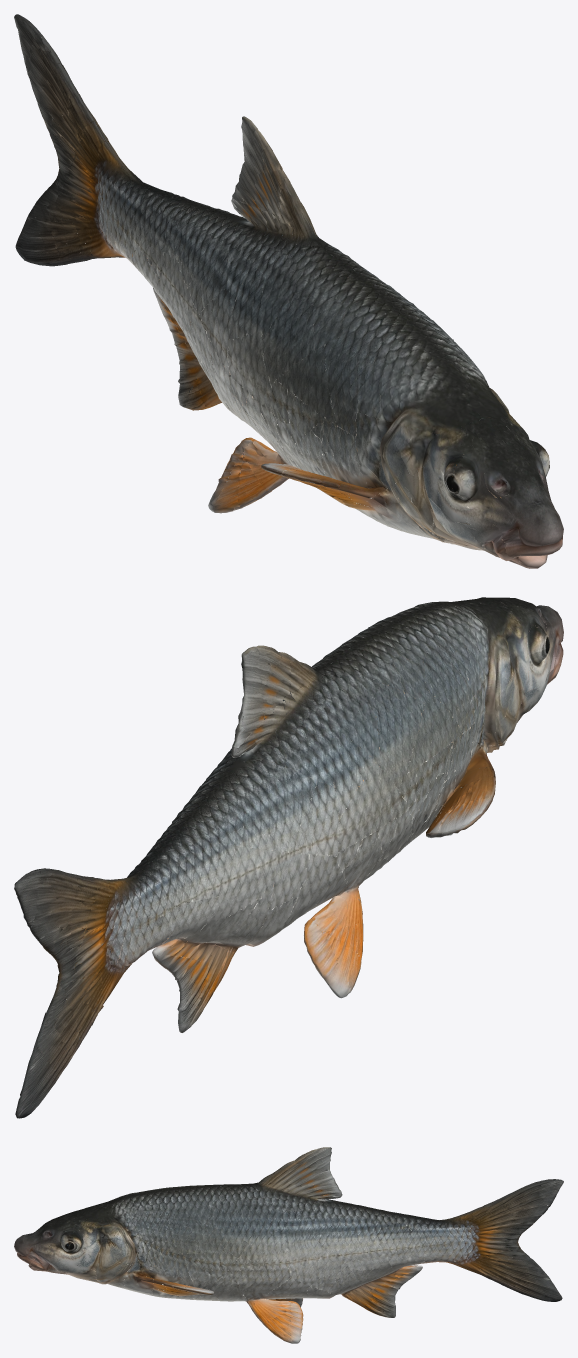
File: certa.glb
3 renders of one model, top to bottom at view 1: azimuth 30°, elevation 25°; view 2: azimuth 150°, elevation 25°; view 3: azimuth 270°, elevation 25°, orthographic. The views are drawn at different scales.
Parts seen in each view (by area): view 1: Mesh_0; view 2: Mesh_0; view 3: Mesh_0.
Boxes of the visible parts, box(x1,y1,x2,y2) form: Mesh_0: box(14, 14, 563, 568); Mesh_0: box(14, 597, 563, 1118); Mesh_0: box(14, 1147, 563, 1343).
Bounding box in the file's own units: 0.4406 × 0.688 × 1.9.
Materials: 1 (1 with a texture image).
